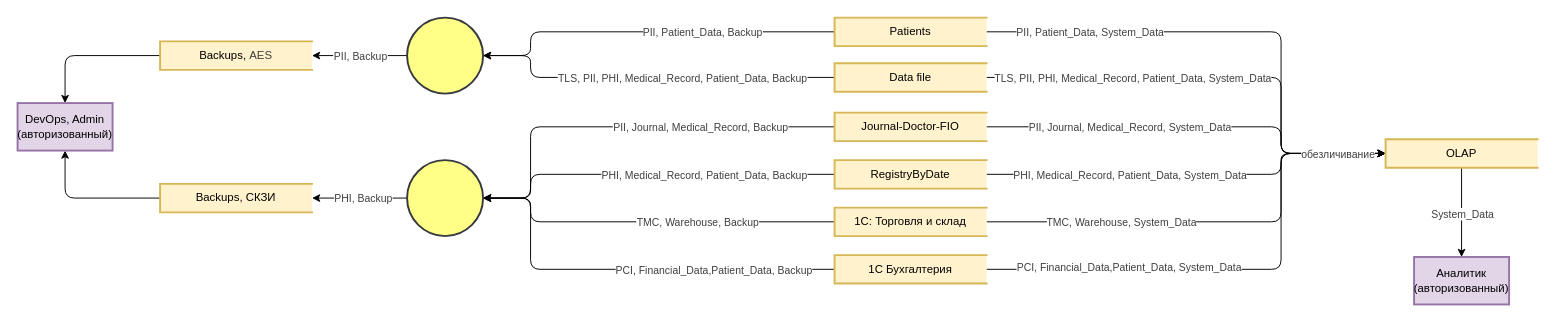
The diagram is 1554 pixels wide and 321 high, and some of its shapes have lost their labels. The shapes that lost their labels are listed below. From the top down, each one's box as (x1, y1, x2, y2) in pixels, then its label:
(406, 16, 484, 94): Шифрование AES
(406, 159, 484, 237): Шифрование СКЗИ
